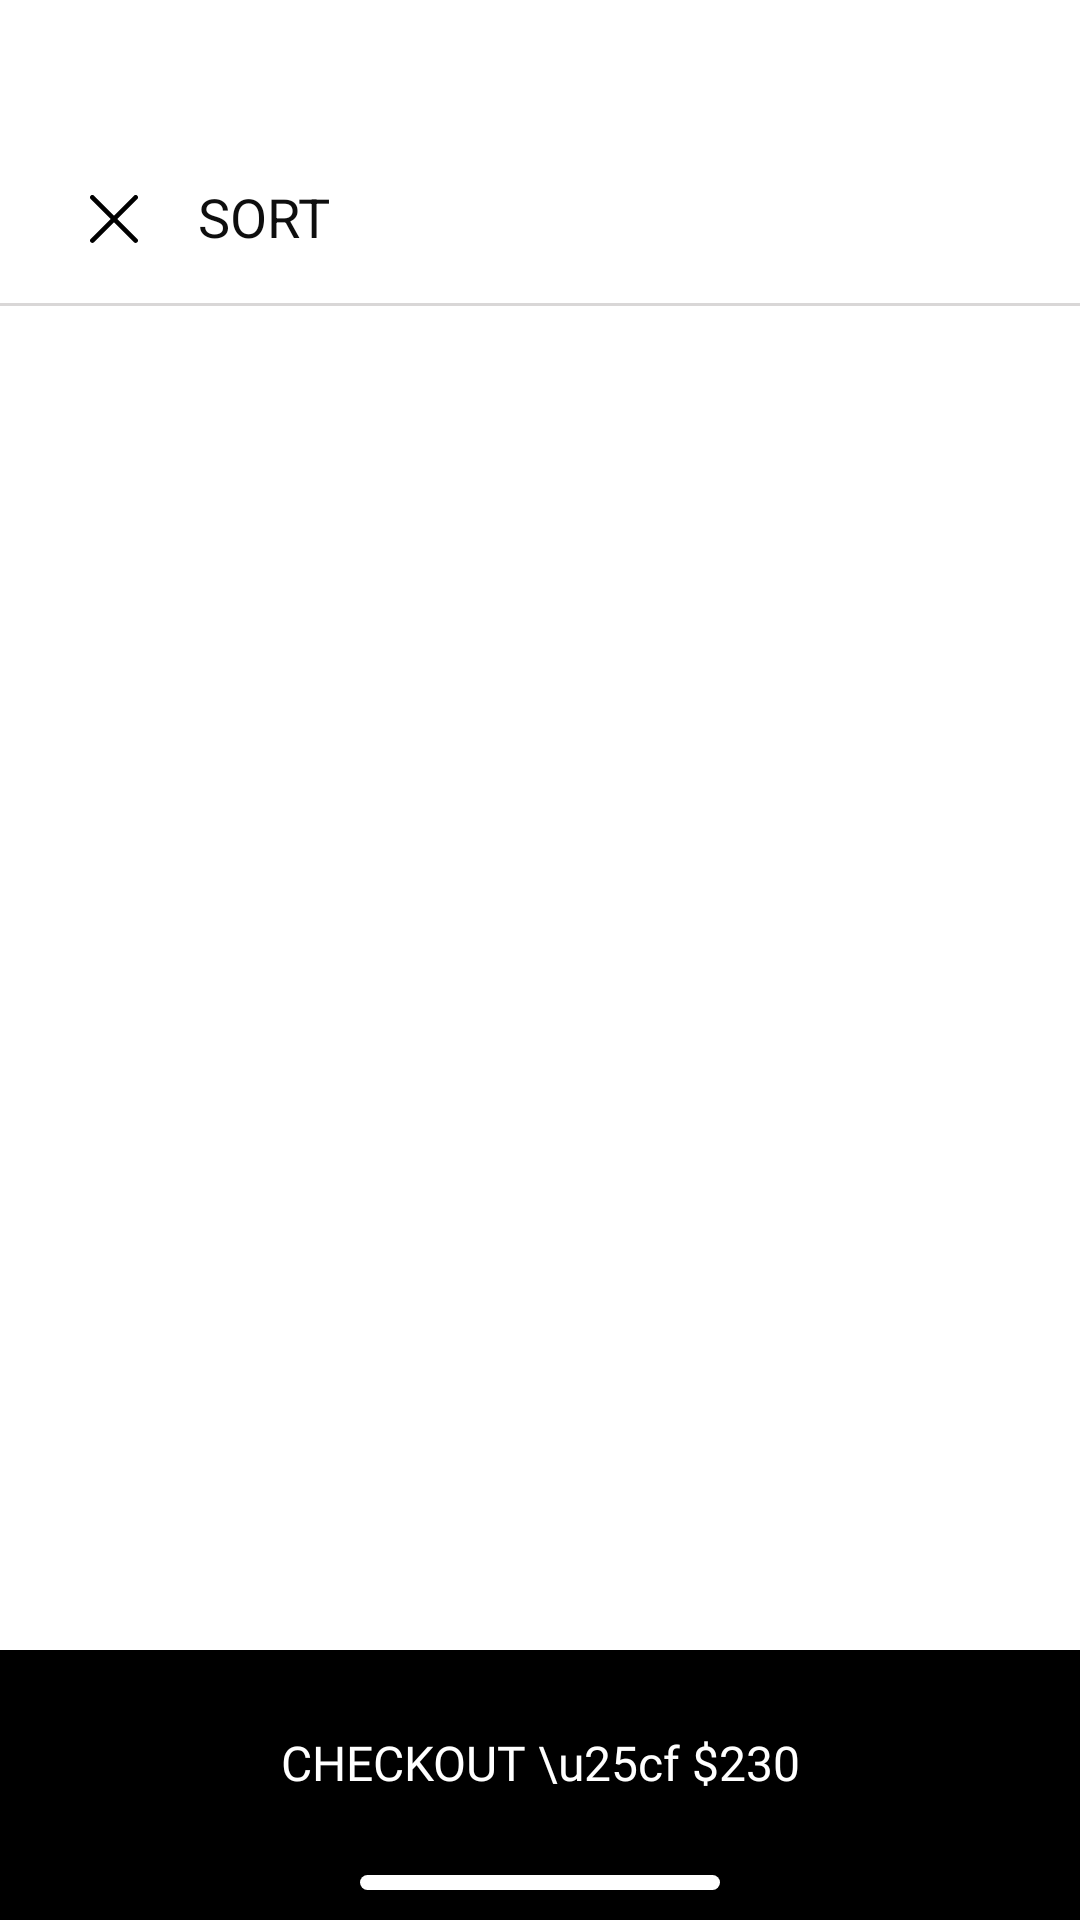

Screen size 1080px×1920px. Icon name, then its box in pixels as (x1=x1, y1=y1, x2=x2, y2=y2):
close: (x1=90, y1=195, x2=138, y2=243)
